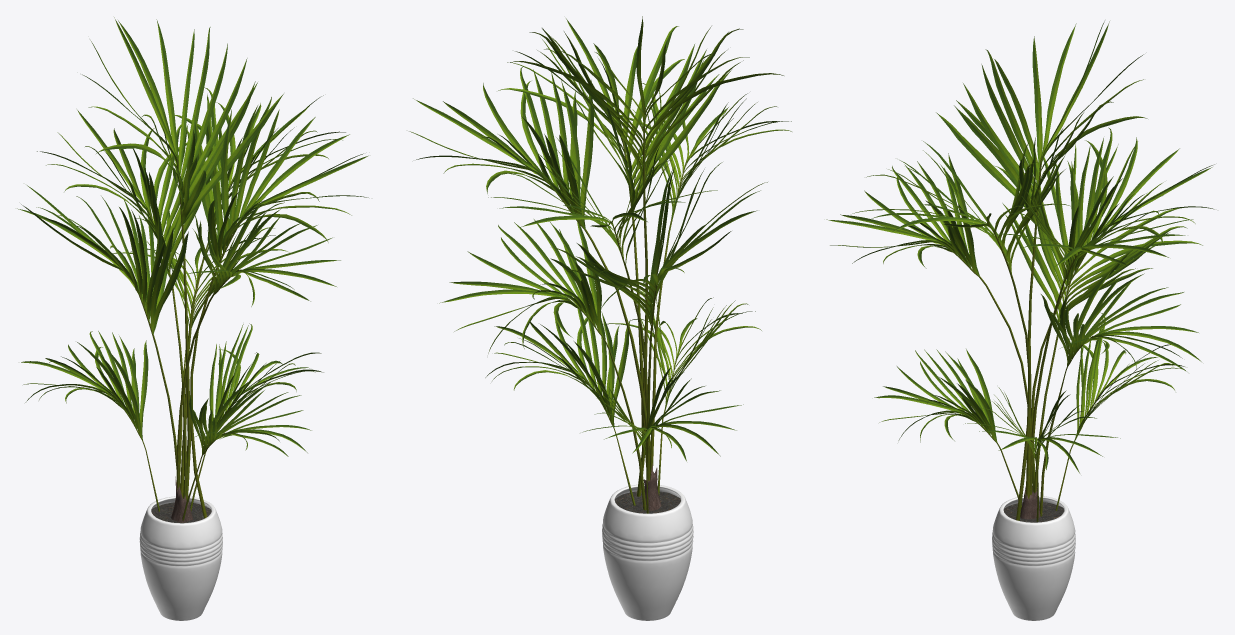
Rendered from Indoor plants.FBX.
3 views of the same model, side by side, from view 1: azimuth 30°, elevation 25°; view 2: azimuth 150°, elevation 25°; view 3: azimuth 270°, elevation 25° (orthographic). The views are drawn at different scales.
Parts seen in each view (by area): view 1: Leaves, Pot, Stems; view 2: Leaves, Pot, Stems; view 3: Leaves, Pot, Stems.
Boxes of the visible parts, bbox=[...] form: Leaves: bbox=[17, 17, 368, 620]; Pot: bbox=[139, 496, 222, 620]; Stems: bbox=[121, 157, 247, 523]; Leaves: bbox=[409, 16, 791, 620]; Pot: bbox=[602, 484, 693, 620]; Stems: bbox=[556, 125, 686, 513]; Leaves: bbox=[826, 21, 1214, 620]; Pot: bbox=[992, 495, 1075, 620]; Stems: bbox=[945, 156, 1100, 522].
Size of the model in its own units: 0.8865 by 1 by 1.62.
Materials: 2 (1 with a texture image).
